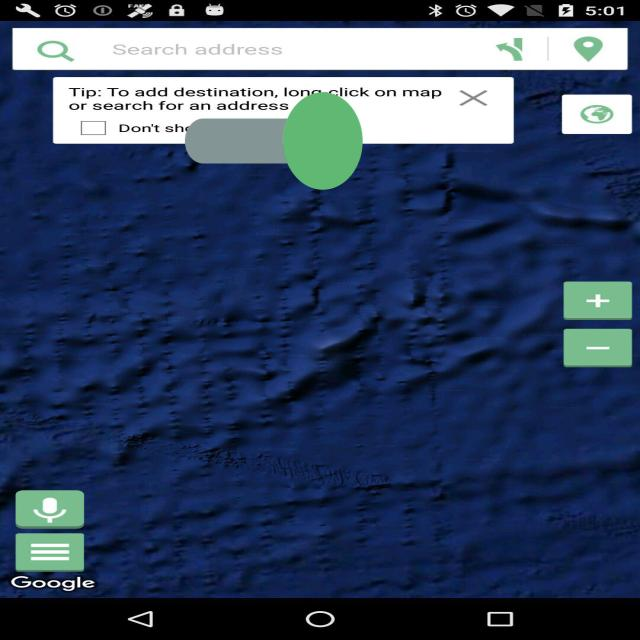social proof: (185, 32, 363, 250)
